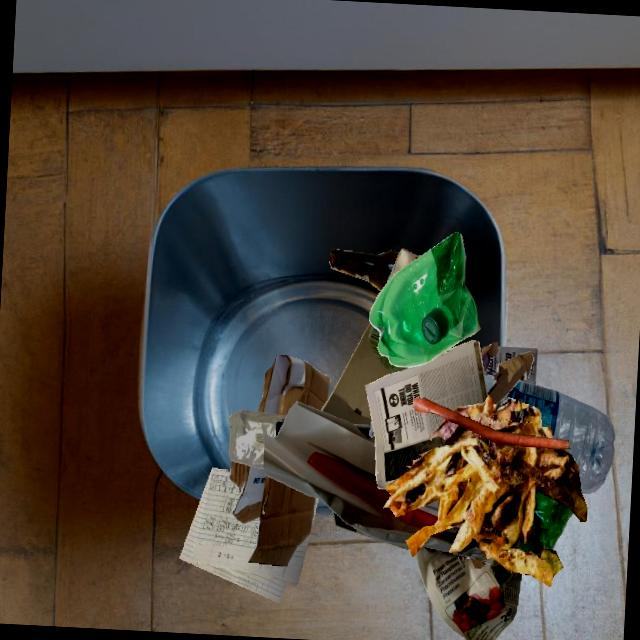biowaste: (383, 419, 587, 587), (412, 398, 570, 449)
cardboard: (321, 322, 411, 426), (475, 379, 526, 559), (229, 461, 315, 566), (258, 355, 330, 416), (332, 510, 409, 549)
glass: (329, 249, 399, 291), (369, 420, 375, 438)
paper: (263, 401, 436, 544), (365, 340, 488, 490), (179, 468, 310, 603), (416, 546, 522, 640)
plastic: (369, 232, 480, 367), (495, 381, 615, 494), (519, 490, 573, 555), (229, 410, 286, 469), (484, 347, 538, 385)
